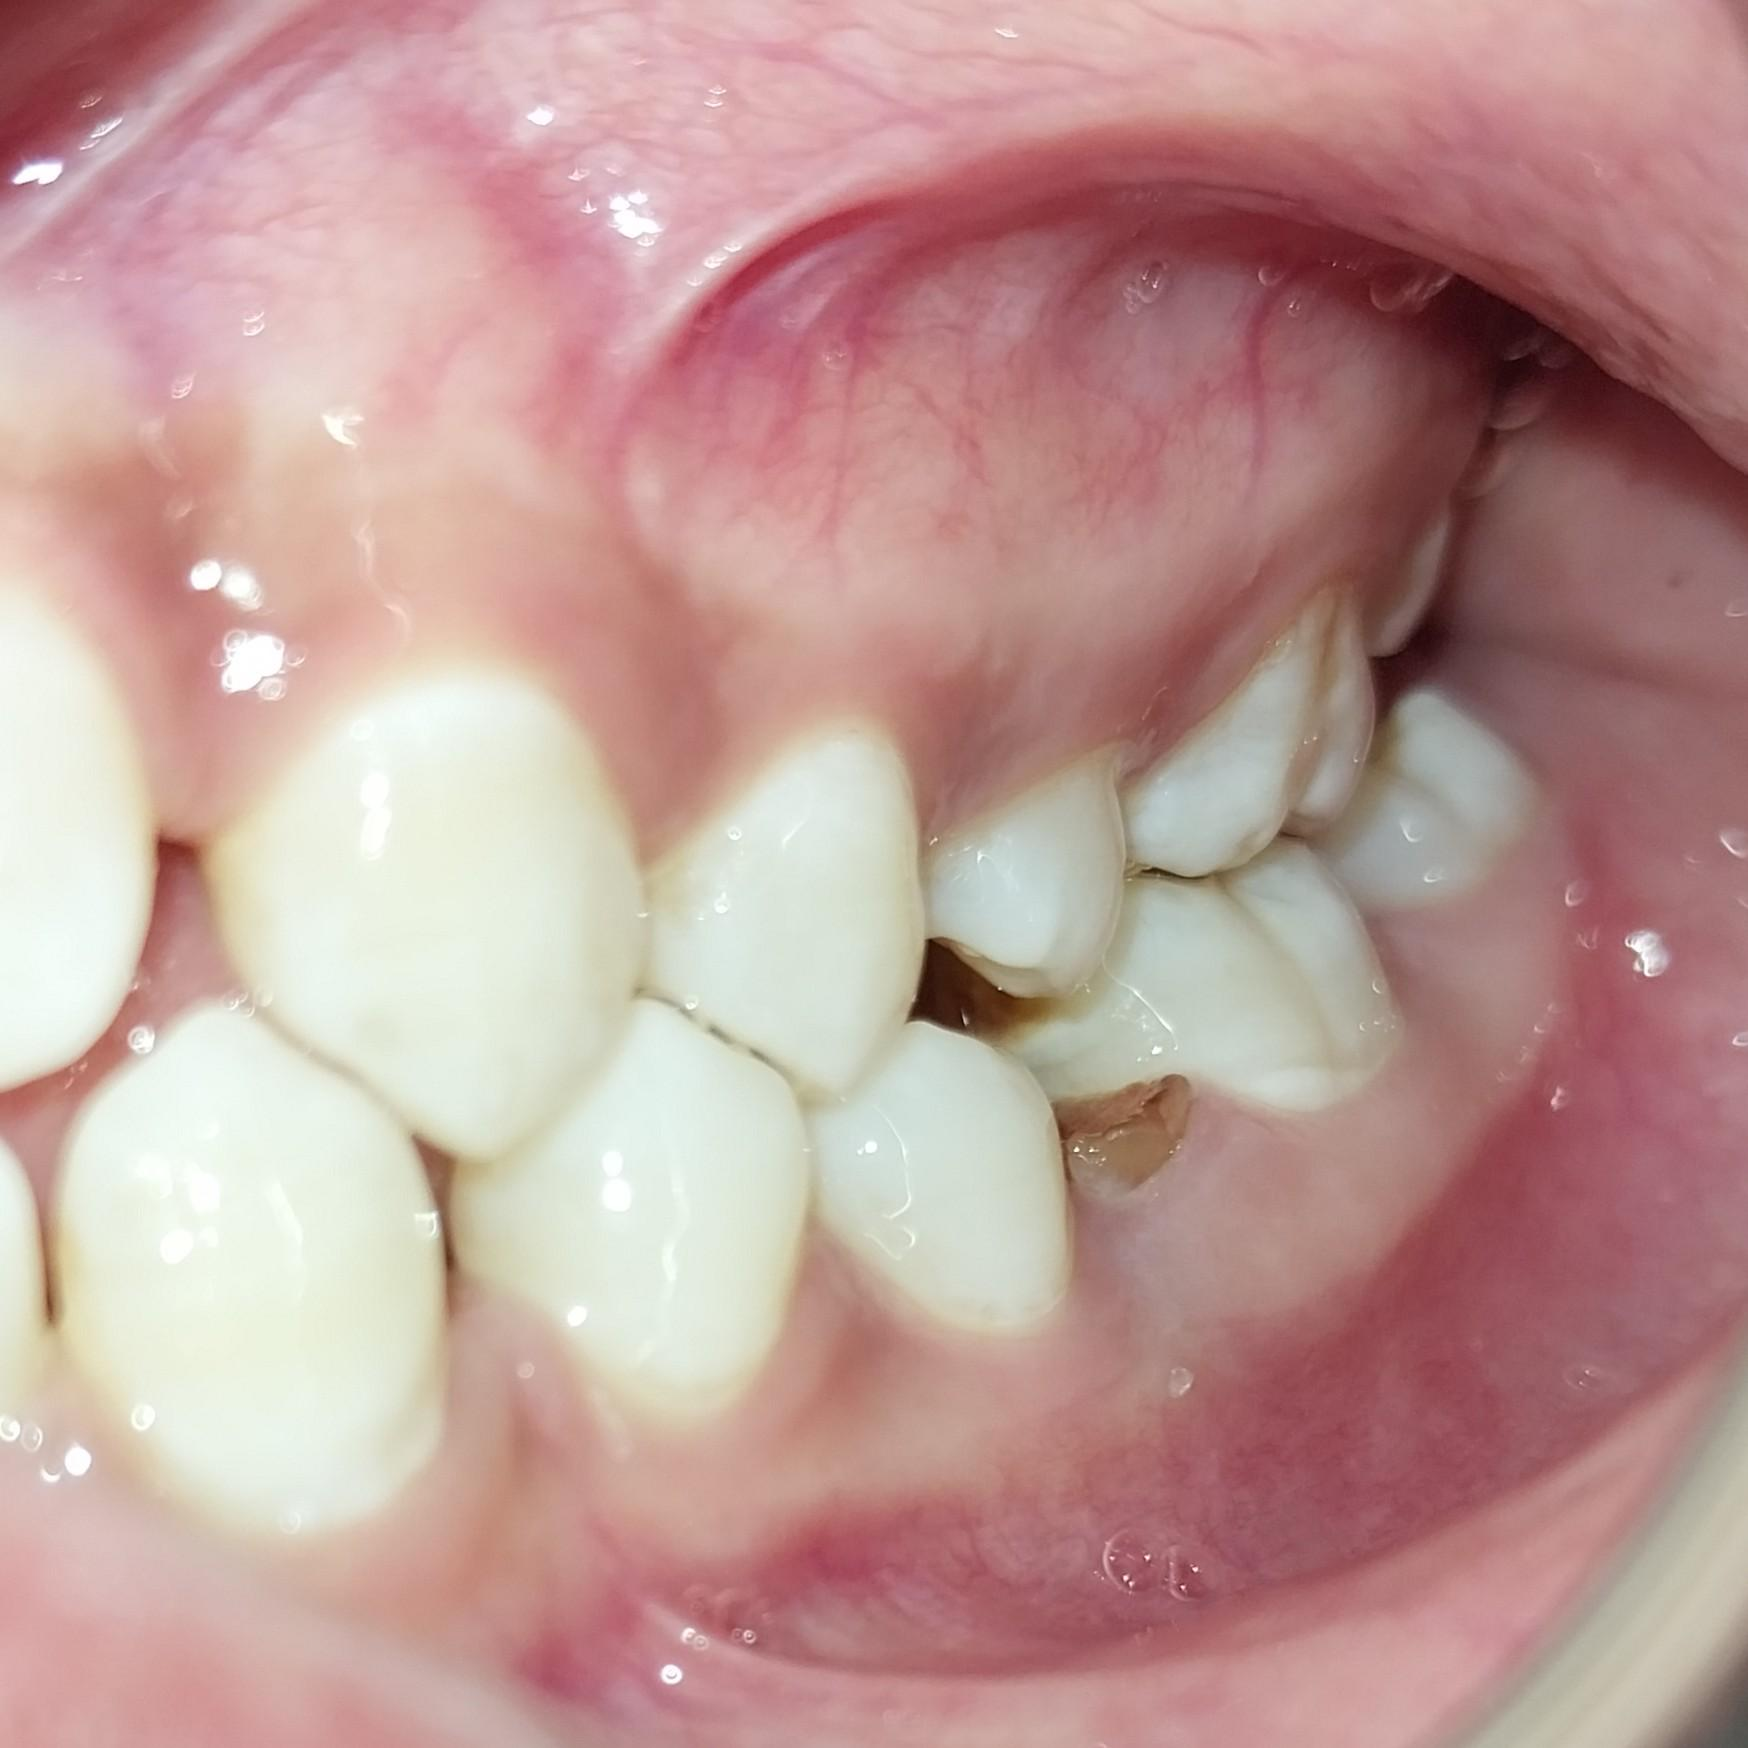D: (1040, 1067, 1216, 1189)
